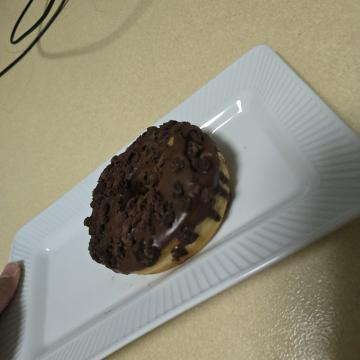doughnut: (108, 122, 285, 285)
